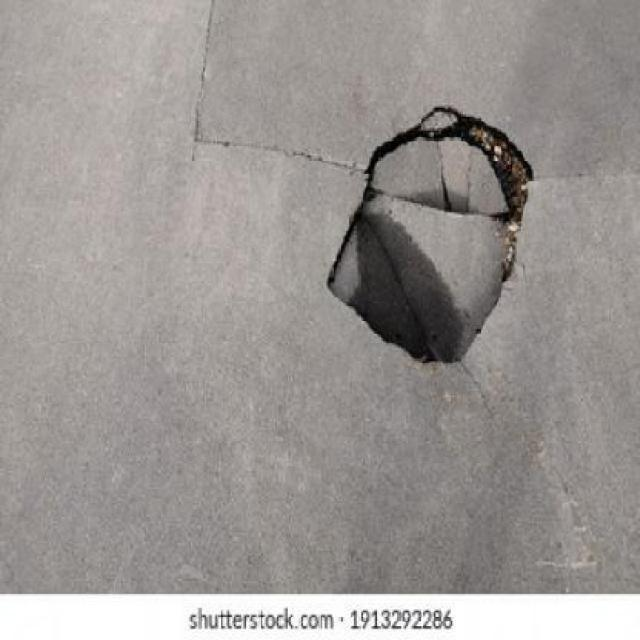Buraco: (322, 103, 542, 371)
